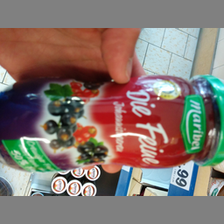jam: (1, 75, 224, 173)
